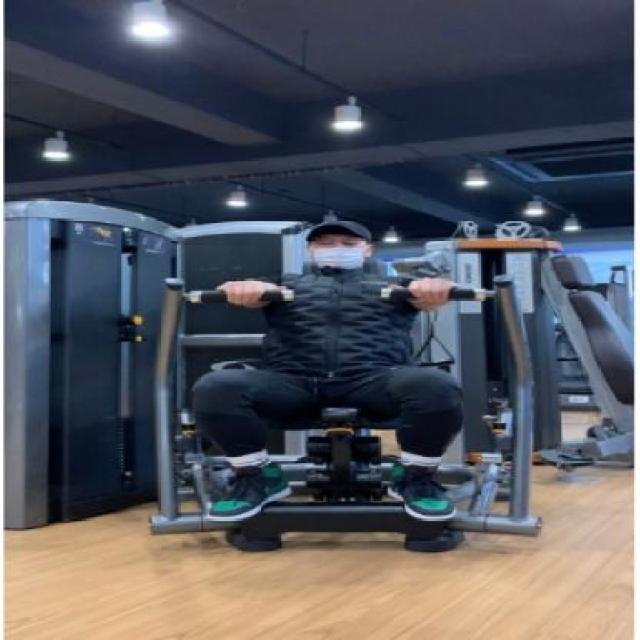Chest Press machine: (16, 185, 626, 566)
